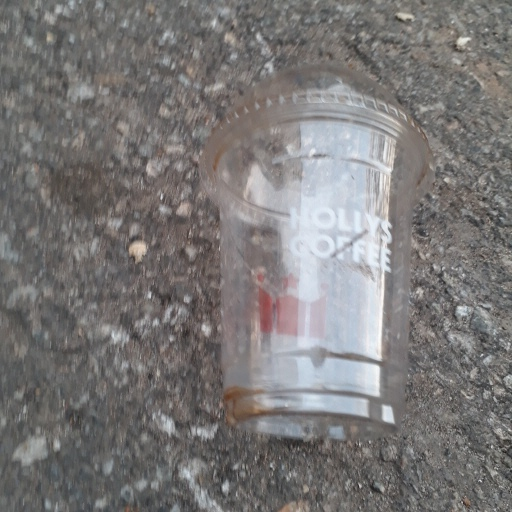Plastic_2: (203, 62, 431, 444)
